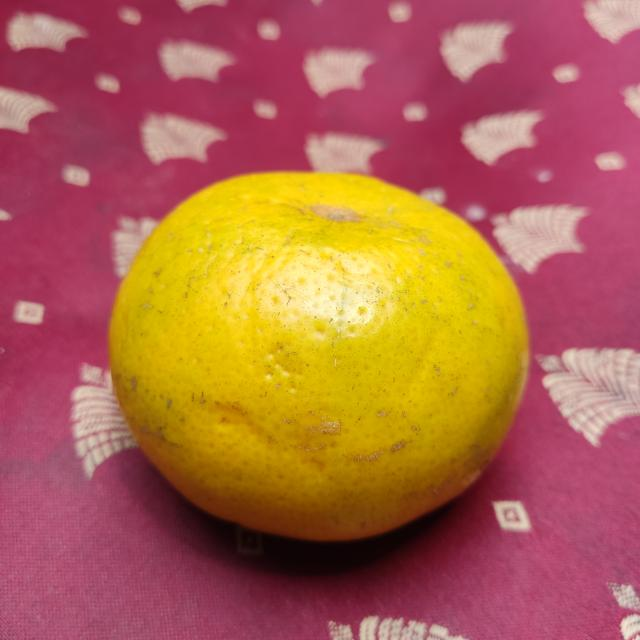orange: (102, 171, 528, 540)
